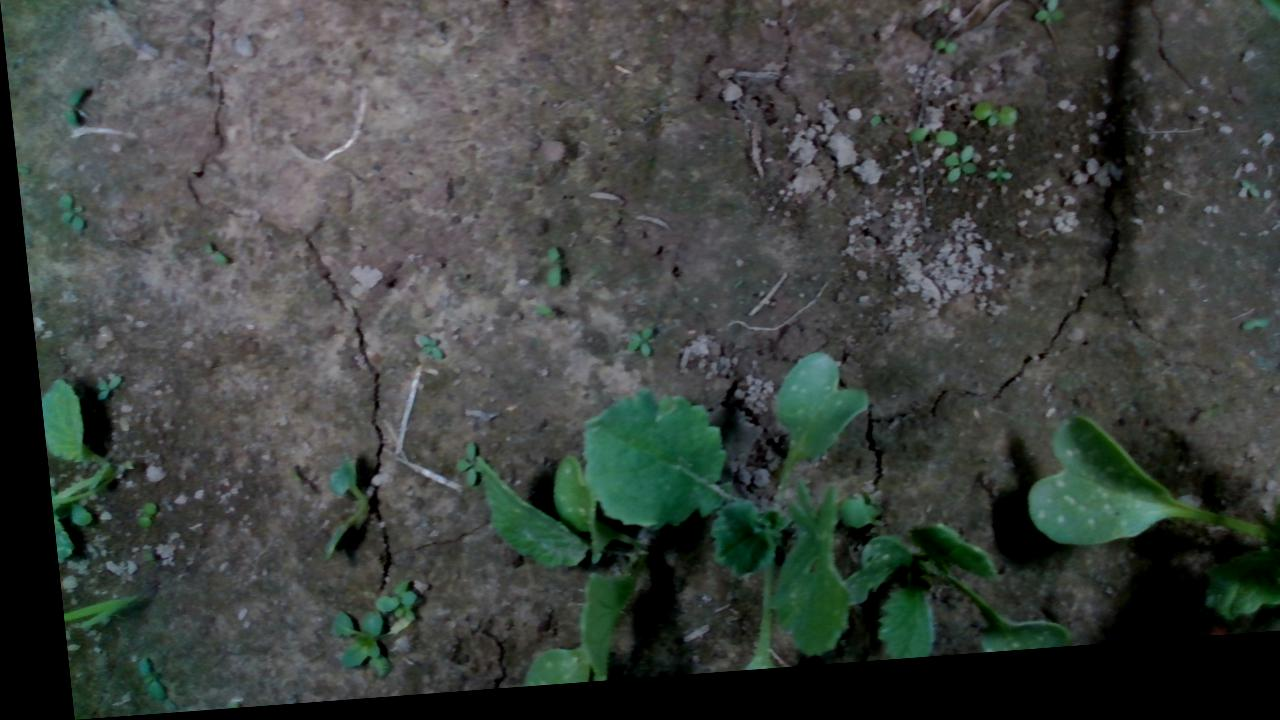weed: (964, 112, 1013, 143), (121, 653, 152, 702), (935, 157, 973, 196), (900, 137, 952, 162), (50, 192, 80, 232), (57, 86, 86, 127), (613, 334, 648, 367), (1029, 8, 1063, 41), (535, 250, 556, 295), (408, 336, 436, 367), (978, 177, 1007, 202), (123, 501, 147, 530), (197, 242, 222, 268), (929, 50, 956, 71)
